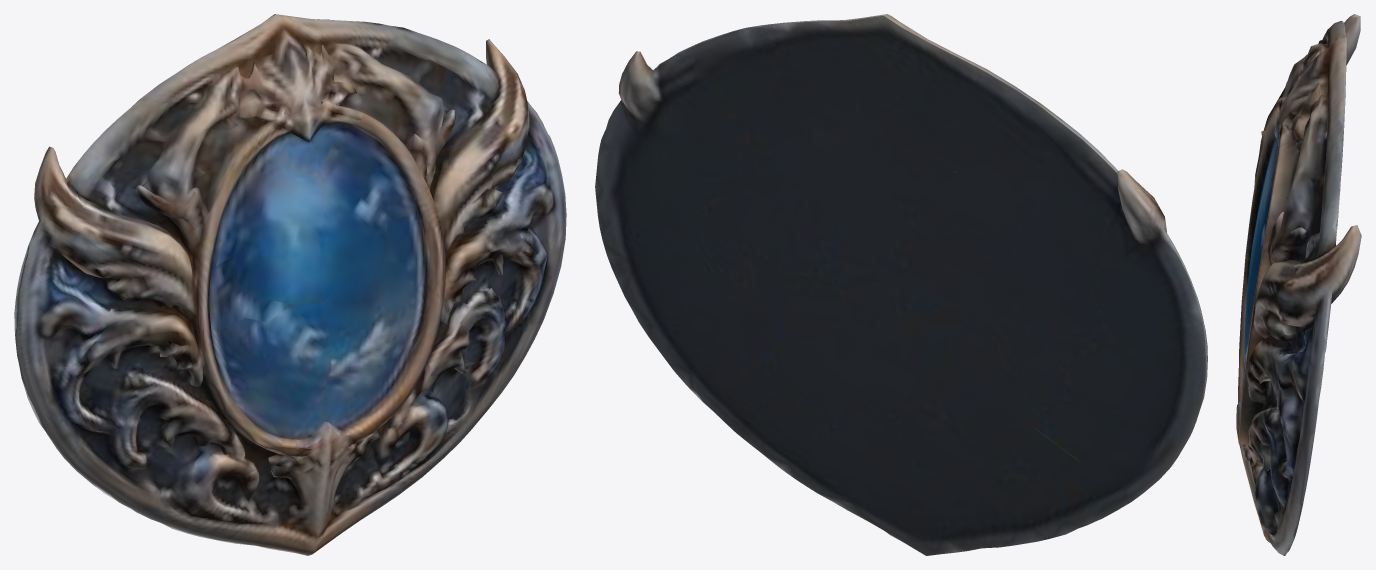
The model's file is shld_mirr.glb.
The picture shows the model from 3 angles, left to right: view 1: azimuth 30°, elevation 25°; view 2: azimuth 150°, elevation 25°; view 3: azimuth 270°, elevation 25°; orthographic projection. The views are drawn at different scales.
Parts seen in each view (by area): view 1: tripo_node_540e6f5e-abea-4e68-bbcc-fe2b6deadc8a; view 2: tripo_node_540e6f5e-abea-4e68-bbcc-fe2b6deadc8a; view 3: tripo_node_540e6f5e-abea-4e68-bbcc-fe2b6deadc8a.
Boxes of the visible parts, box(x1,y1,x2,y2) form: tripo_node_540e6f5e-abea-4e68-bbcc-fe2b6deadc8a: box(14, 14, 566, 555); tripo_node_540e6f5e-abea-4e68-bbcc-fe2b6deadc8a: box(595, 14, 1207, 555); tripo_node_540e6f5e-abea-4e68-bbcc-fe2b6deadc8a: box(1236, 14, 1361, 555).
Size of the model in its own units: 0.3363 by 0.3 by 0.0671.
1 material, 1 textured.
